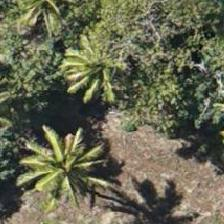coconut_tree: (3, 117, 93, 207), (65, 22, 155, 112)
